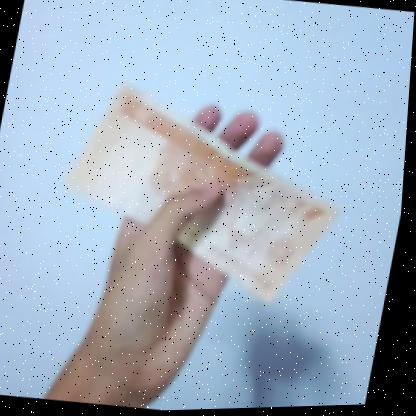twenty-back-vef: (48, 75, 364, 317)
